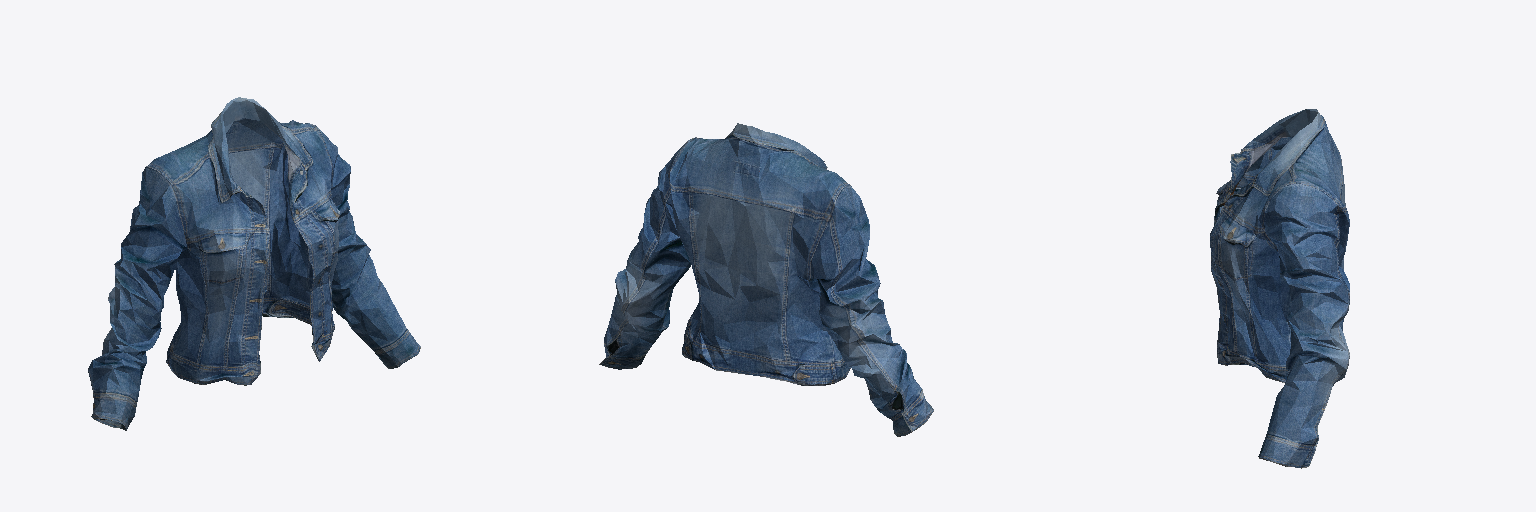
The picture shows the model from 3 angles: view 1: azimuth 30°, elevation 25°; view 2: azimuth 150°, elevation 25°; view 3: azimuth 270°, elevation 25°; orthographic projection.
Parts seen in each view (by area): view 1: jacket_blue; view 2: jacket_blue; view 3: jacket_blue.
Part boxes in pixels (x1,y1,x2,y2): jacket_blue: (88, 97, 420, 430); jacket_blue: (599, 123, 933, 436); jacket_blue: (1210, 109, 1349, 468).
Size of the model in its own units: 0.7475 by 0.6398 by 0.2821.
1 materials, 1 textured.